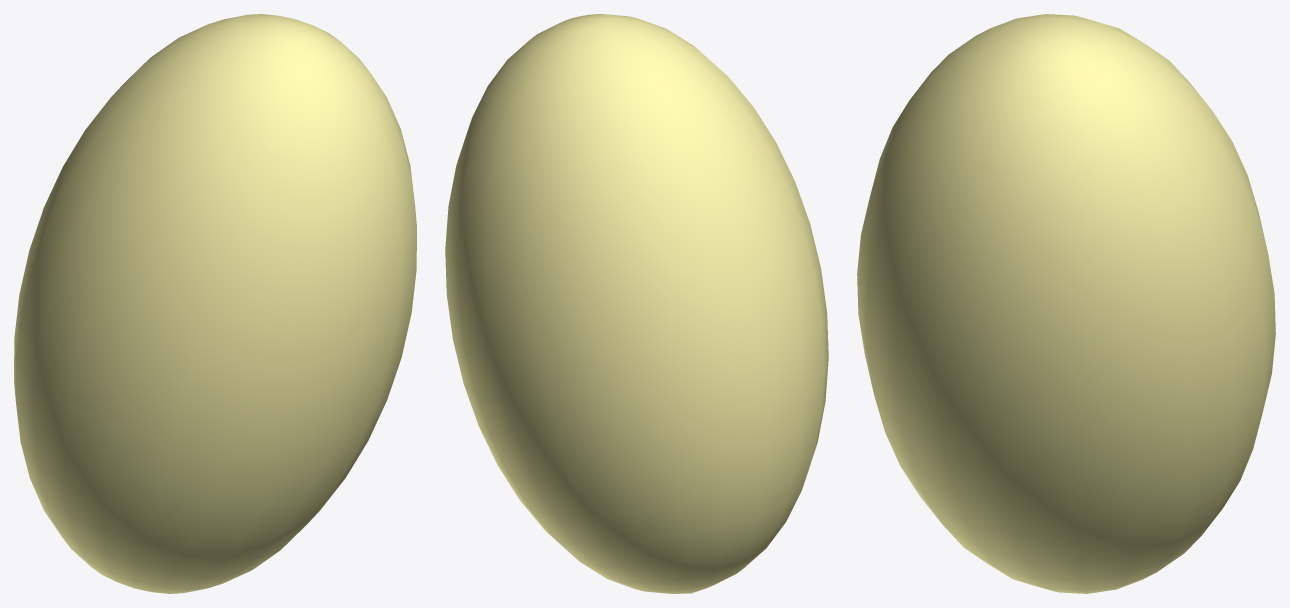
File: brazoIzq.obj
The picture shows the model from 3 angles, left to right: view 1: azimuth 30°, elevation 25°; view 2: azimuth 150°, elevation 25°; view 3: azimuth 270°, elevation 25°; orthographic projection. The views are drawn at different scales.
Parts seen in each view (by area): view 1: pSphere2; view 2: pSphere2; view 3: pSphere2.
Boxes of the visible parts, x1,y1,x2,y2 form: pSphere2: (14,14,416,593); pSphere2: (445,14,828,593); pSphere2: (857,14,1275,593).
Bounding box in the file's own units: 0.884 × 1.32 × 0.8417.
1 material, 1 textured.
